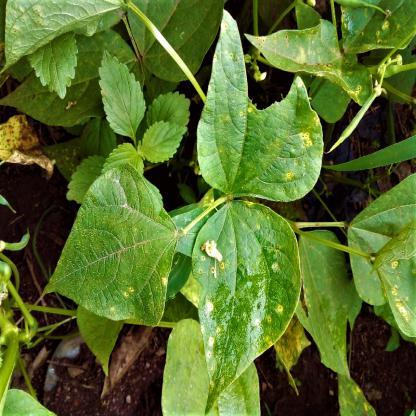Beans_Rust: (190, 201, 296, 416), (207, 10, 320, 199), (43, 173, 172, 330), (246, 18, 374, 99), (0, 0, 124, 72), (368, 217, 416, 346), (352, 0, 416, 54), (342, 371, 375, 414)
